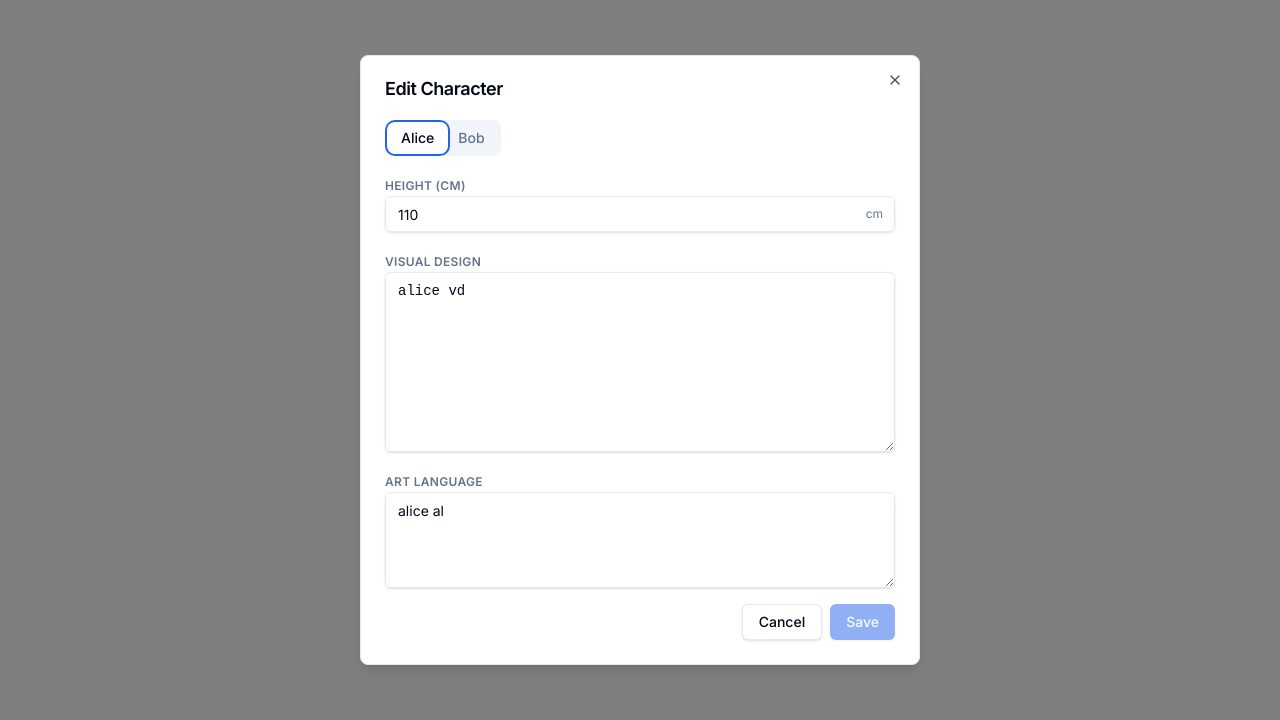
Scenario: EditBaseEntityModal — invalid-height tab marker › flags the offending BACKGROUND tab so a greyed Save has a discoverable cause
The image size is (1280, 720).
Replace the text in the field named "Height in centimeters" with "abc" at (640, 214), box [385,196,895,232]
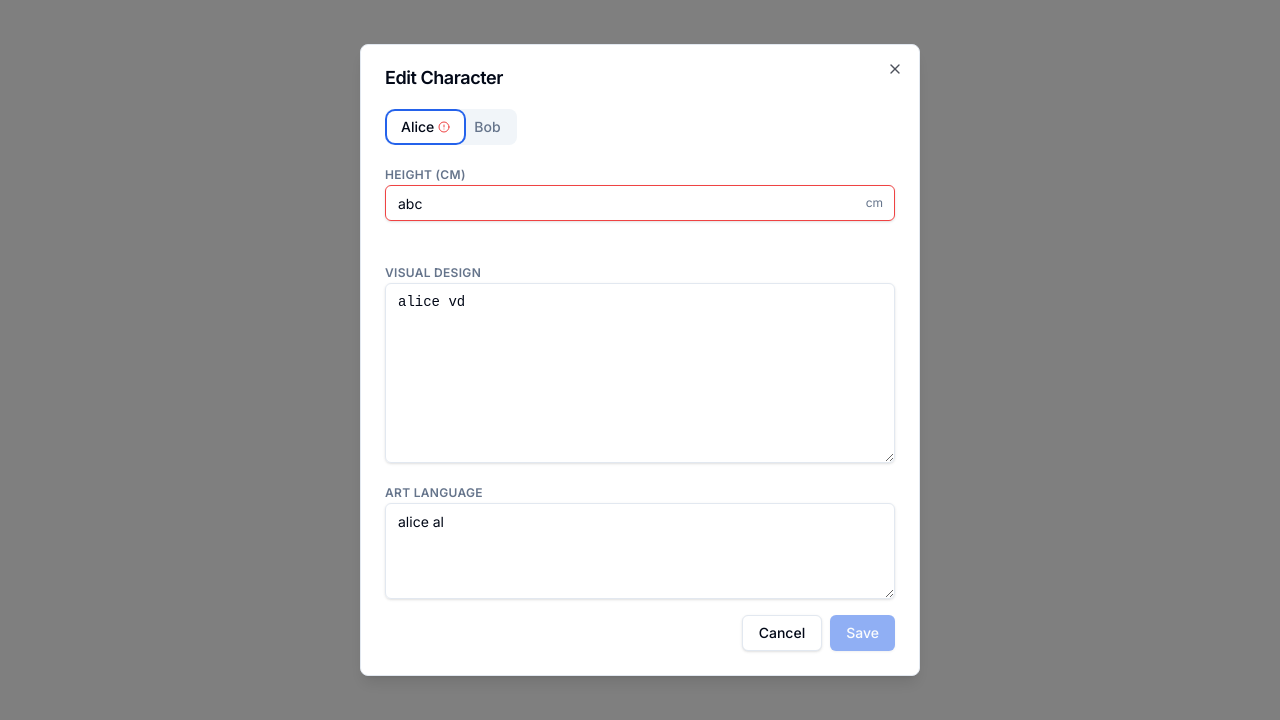
Click the tab "Bob".
click(487, 127)  # box [462,113,513,141]
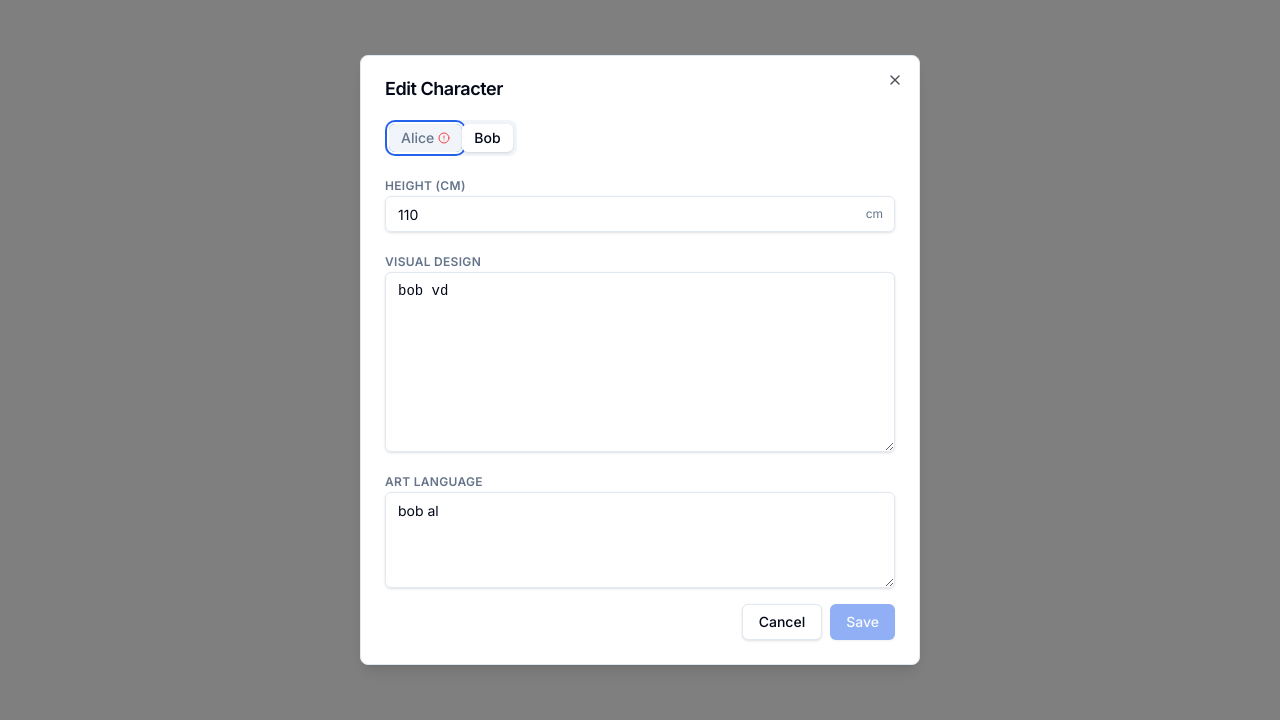
Expected: the button "Save" is disabled, [830,604,895,640]
Now the picture named "Height không hợp lệ — số nguyên 1–5000 (cm)" is shown, box [438,132,450,144]
Now the message "Height phải là số nguyên 1–5000 (cm)" is gone
